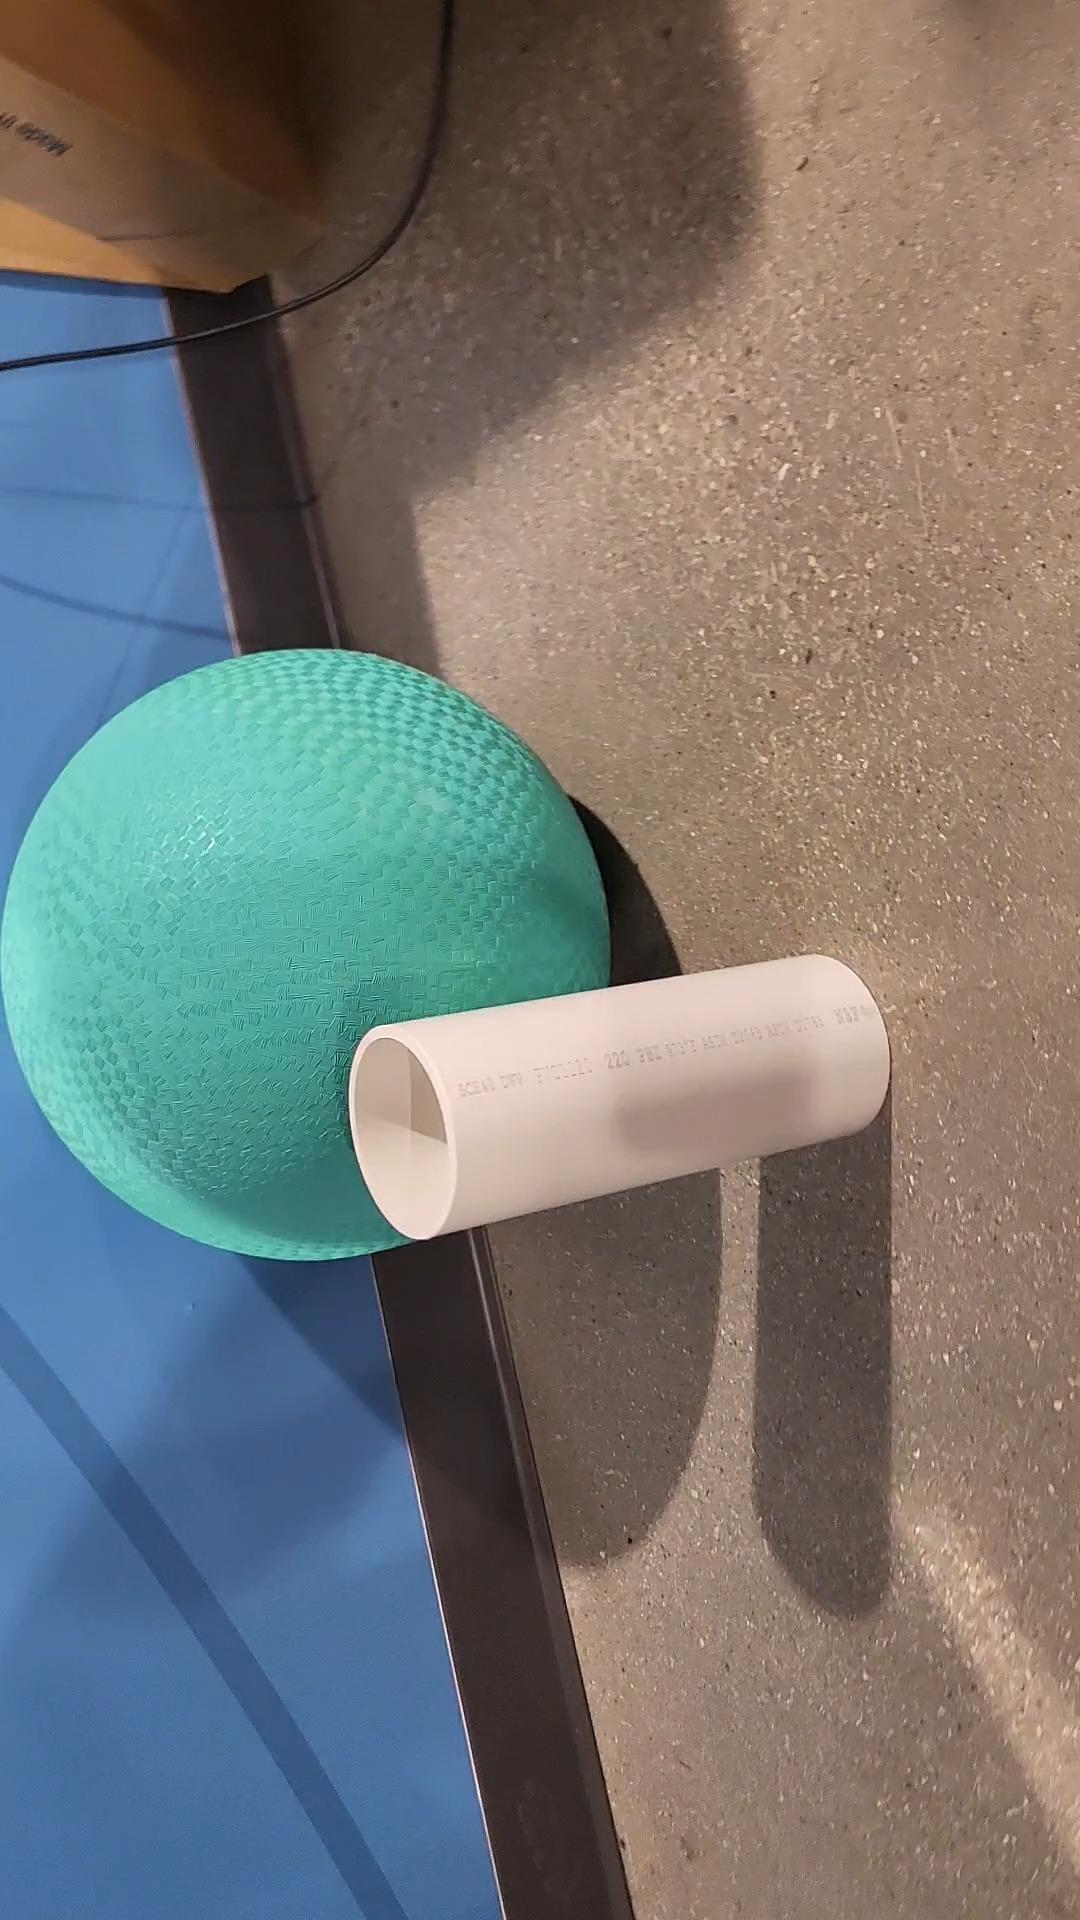algae: (0, 649, 608, 1259)
coral: (348, 952, 894, 1241)
